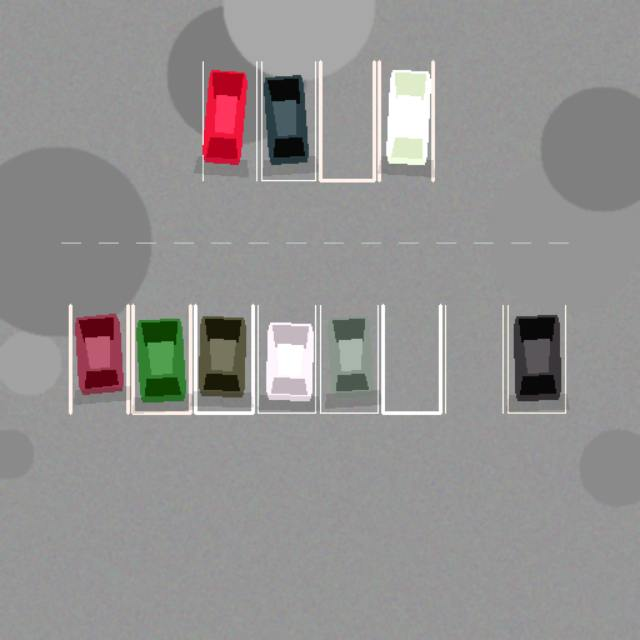space-empty: (320, 61, 374, 180), (382, 305, 440, 413), (445, 305, 502, 413)
space-occupied: (202, 61, 256, 180), (261, 61, 315, 180), (379, 61, 432, 180), (70, 305, 128, 413), (132, 305, 190, 413), (320, 305, 378, 413), (195, 305, 252, 413), (258, 305, 315, 413), (508, 305, 565, 413)
